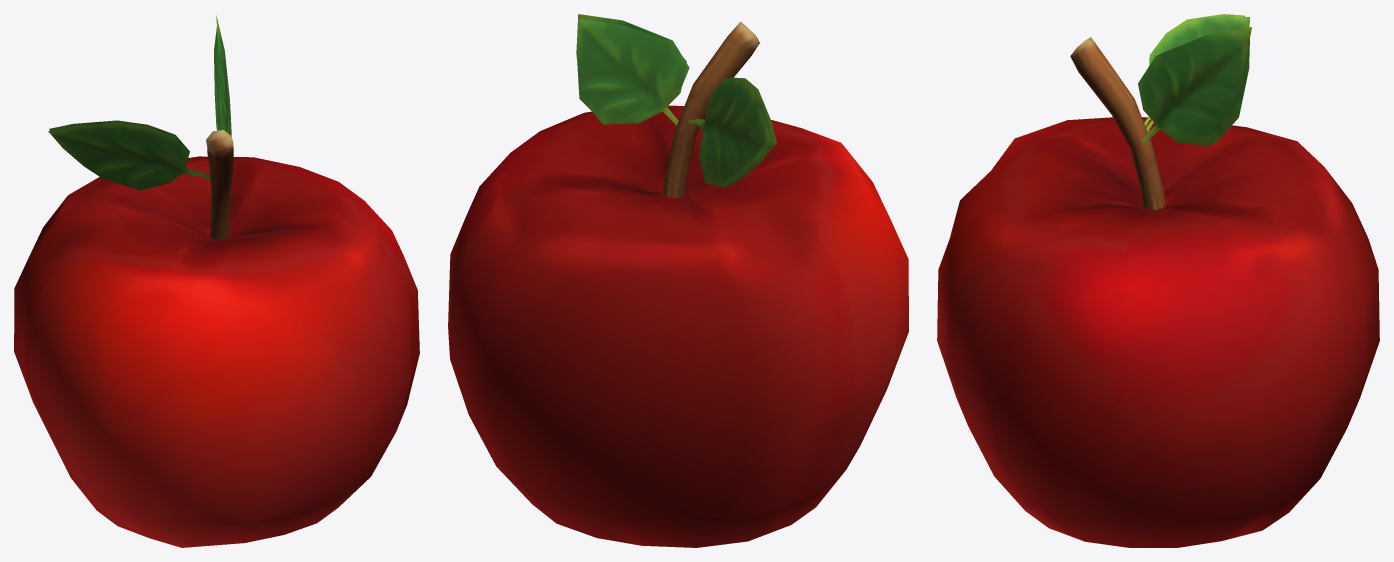
File: 179_an_apple.fbx
The picture shows the model from 3 angles, left to right: view 1: azimuth 30°, elevation 25°; view 2: azimuth 150°, elevation 25°; view 3: azimuth 270°, elevation 25°; orthographic projection. The views are drawn at different scales.
Visible parts, largest first — view 1: 179_an_apple; view 2: 179_an_apple; view 3: 179_an_apple.
Part boxes in pixels (x1=…): 179_an_apple: x1=14, y1=16, x2=419, y2=547; 179_an_apple: x1=448, y1=14, x2=908, y2=547; 179_an_apple: x1=937, y1=14, x2=1379, y2=547.
Bounding box in the file's own units: 12.14 × 15.16 × 12.12.
